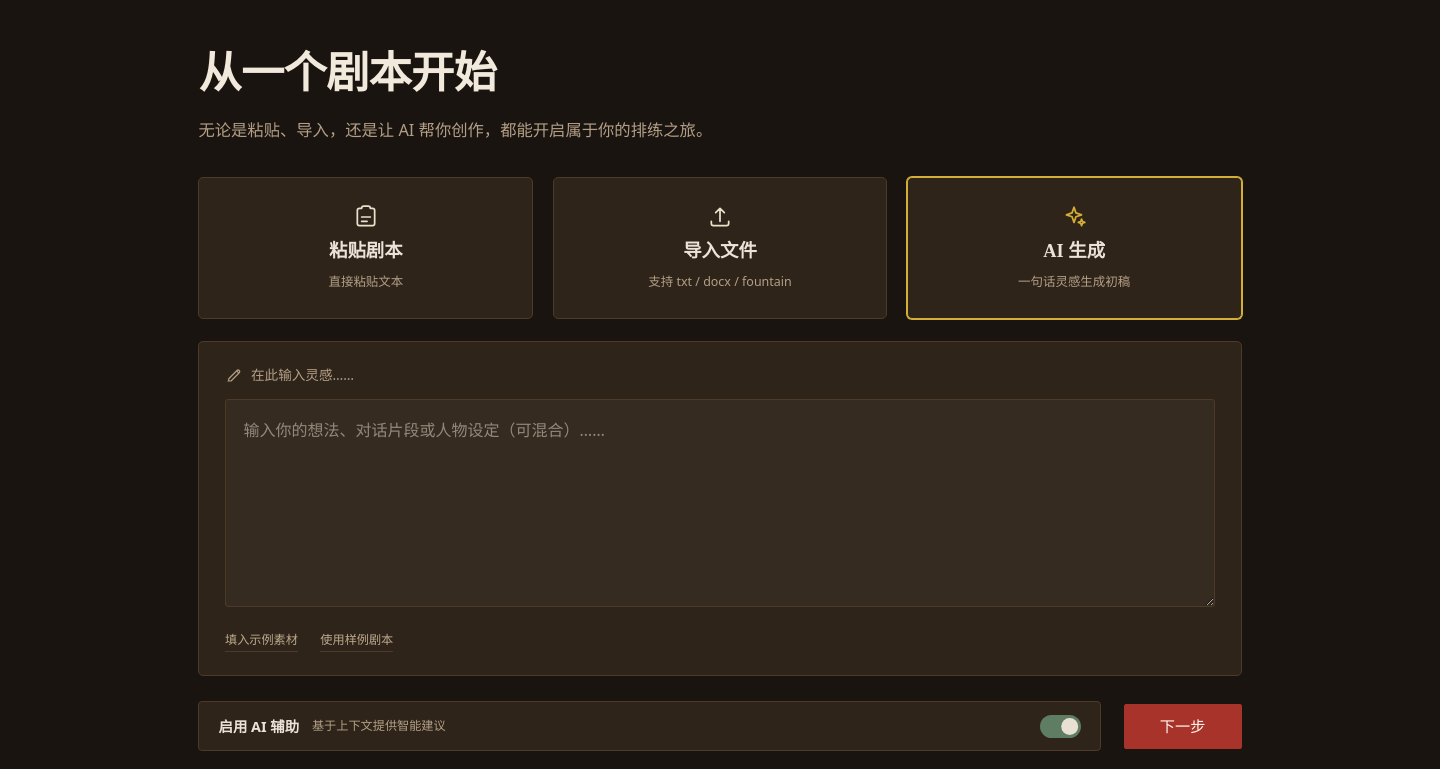
Test: InputStep › 需要澄清时显示 AI 追问，不跳转
Type "太短" into the text box with placeholder "输入你的想法、对话片段或人物设定（可混合）……".
click(720, 503); type("太短")  # box [225, 399, 1215, 607]
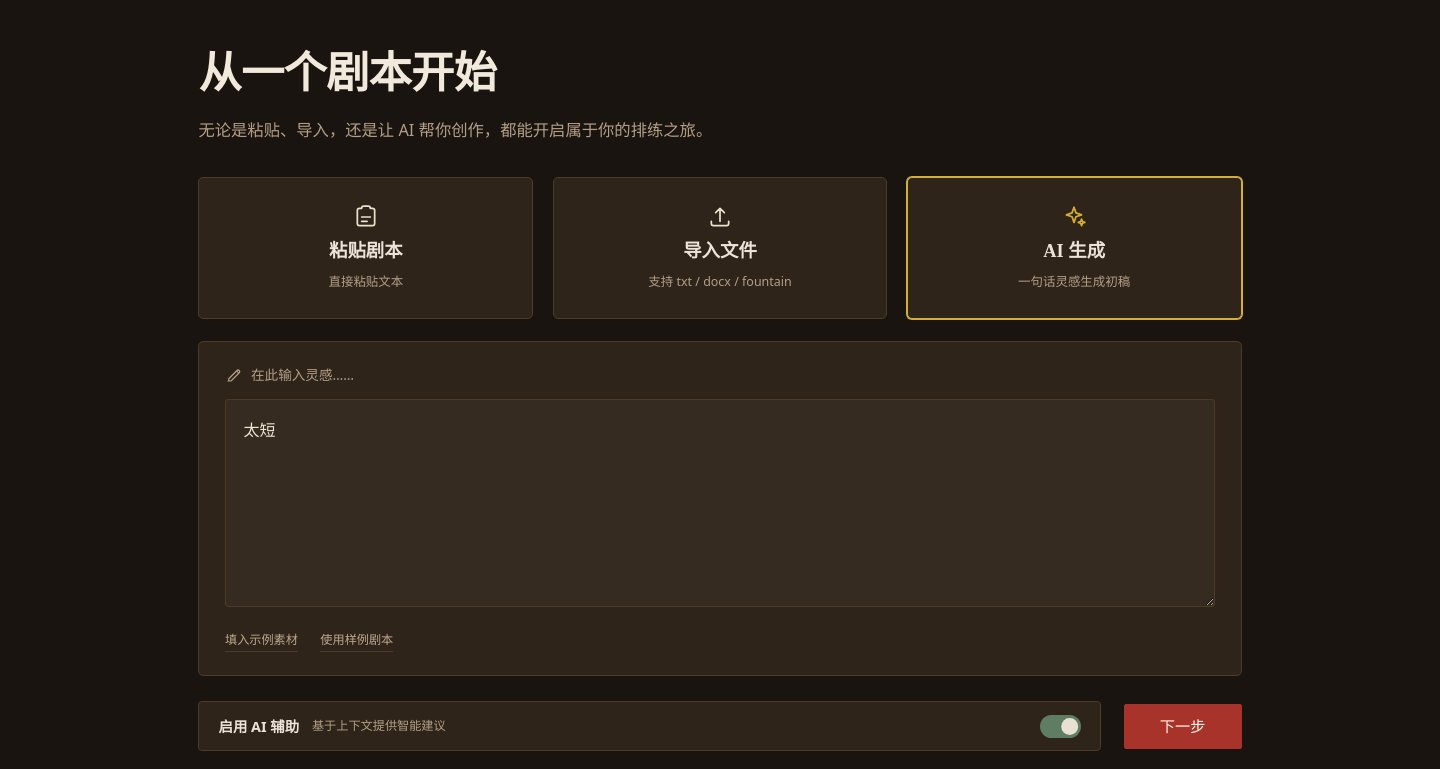
Click the button "下一步".
click(1183, 726)  # box [1124, 704, 1242, 749]
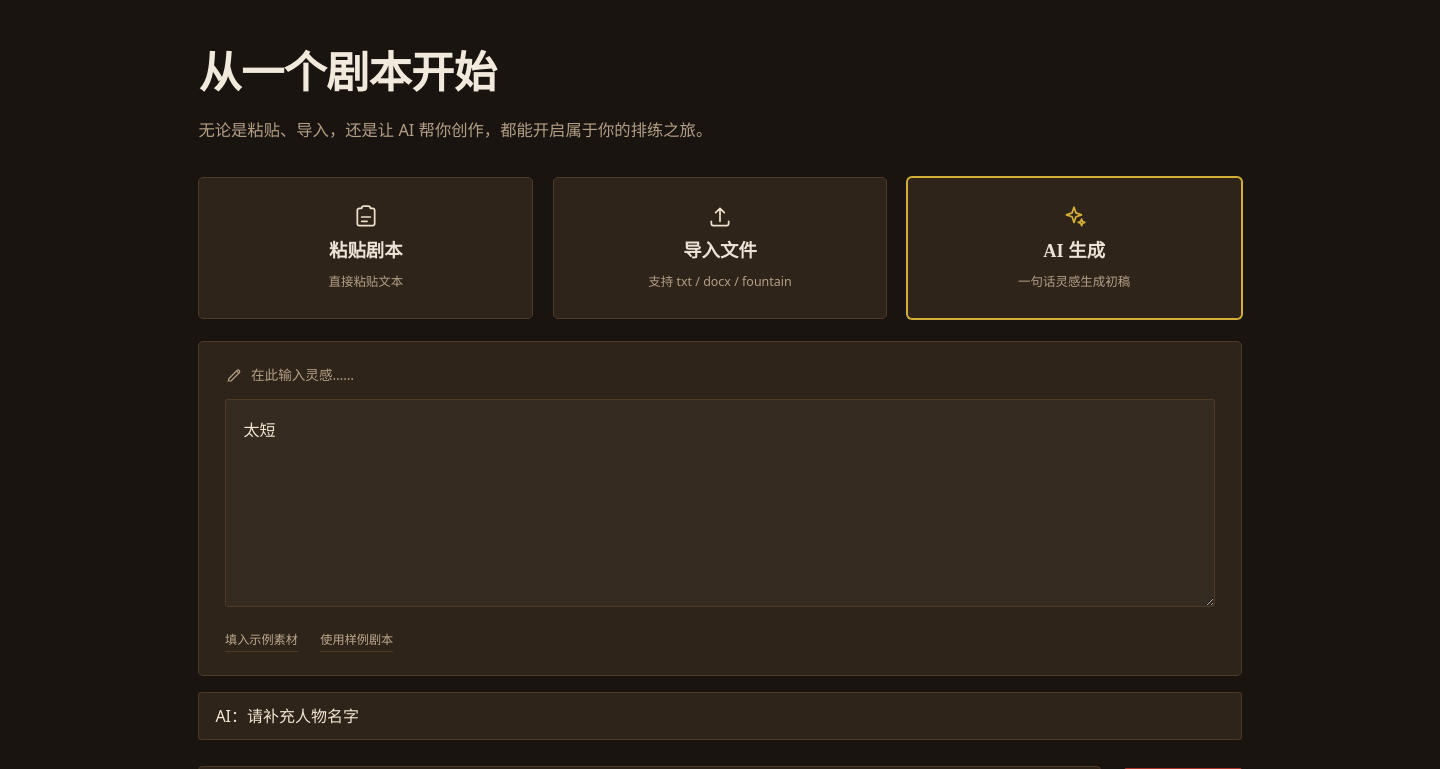
Expected: the text "AI：请补充人物名字" is shown, [198, 692, 1242, 740]
